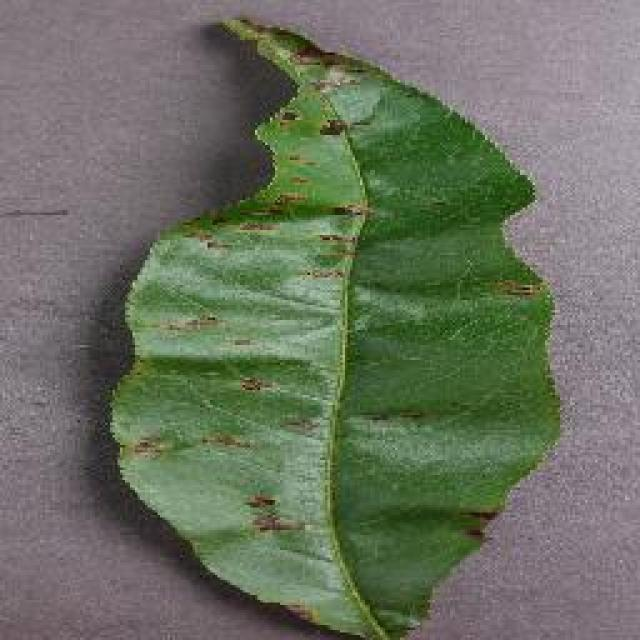Peach_Bacterial_Spot: (285, 90, 457, 625)
